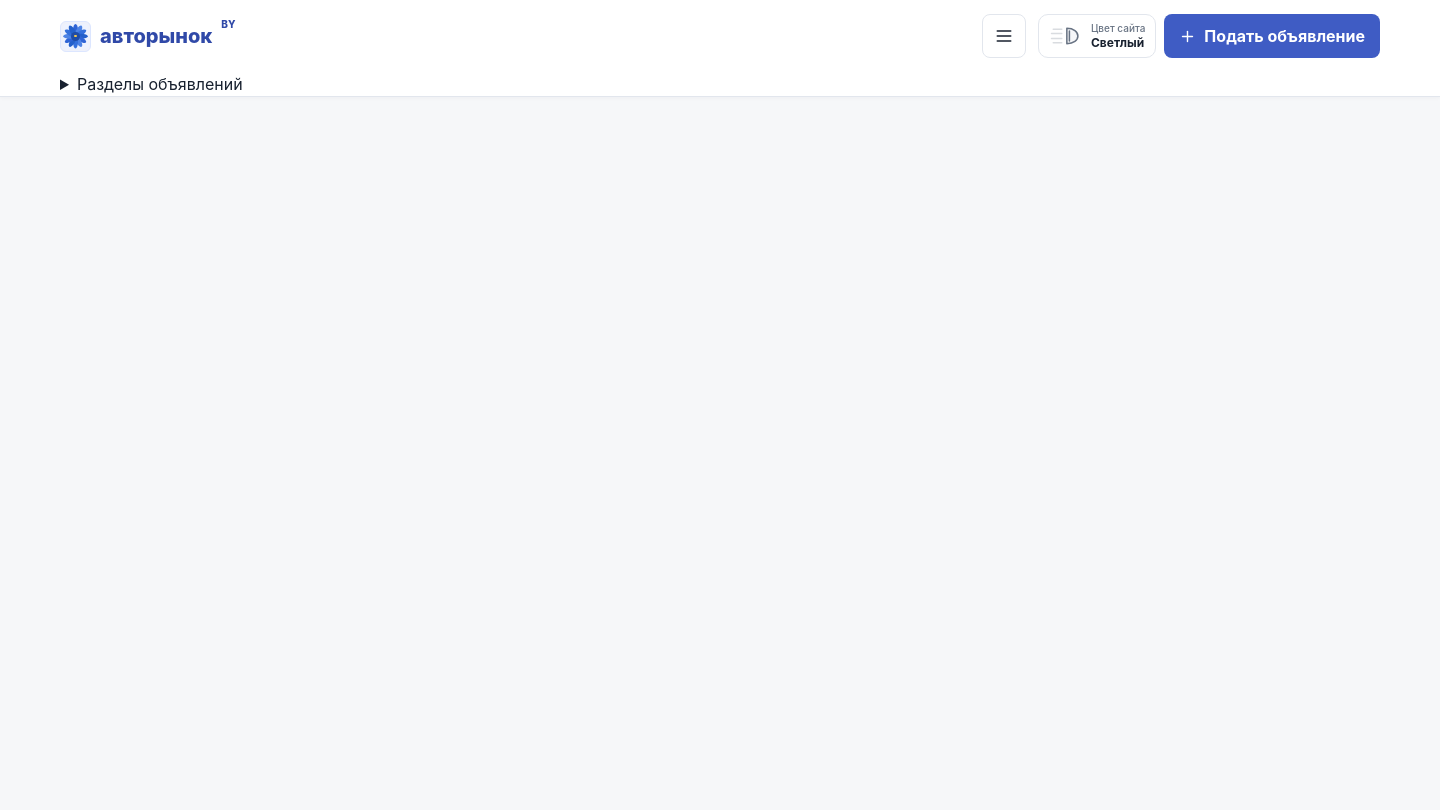
Scenario: moderation navigation › keeps admin routes available from its compact navigation
Click the button with class "mobile-menu-toggle" at (1004, 36), box [982, 14, 1026, 58]
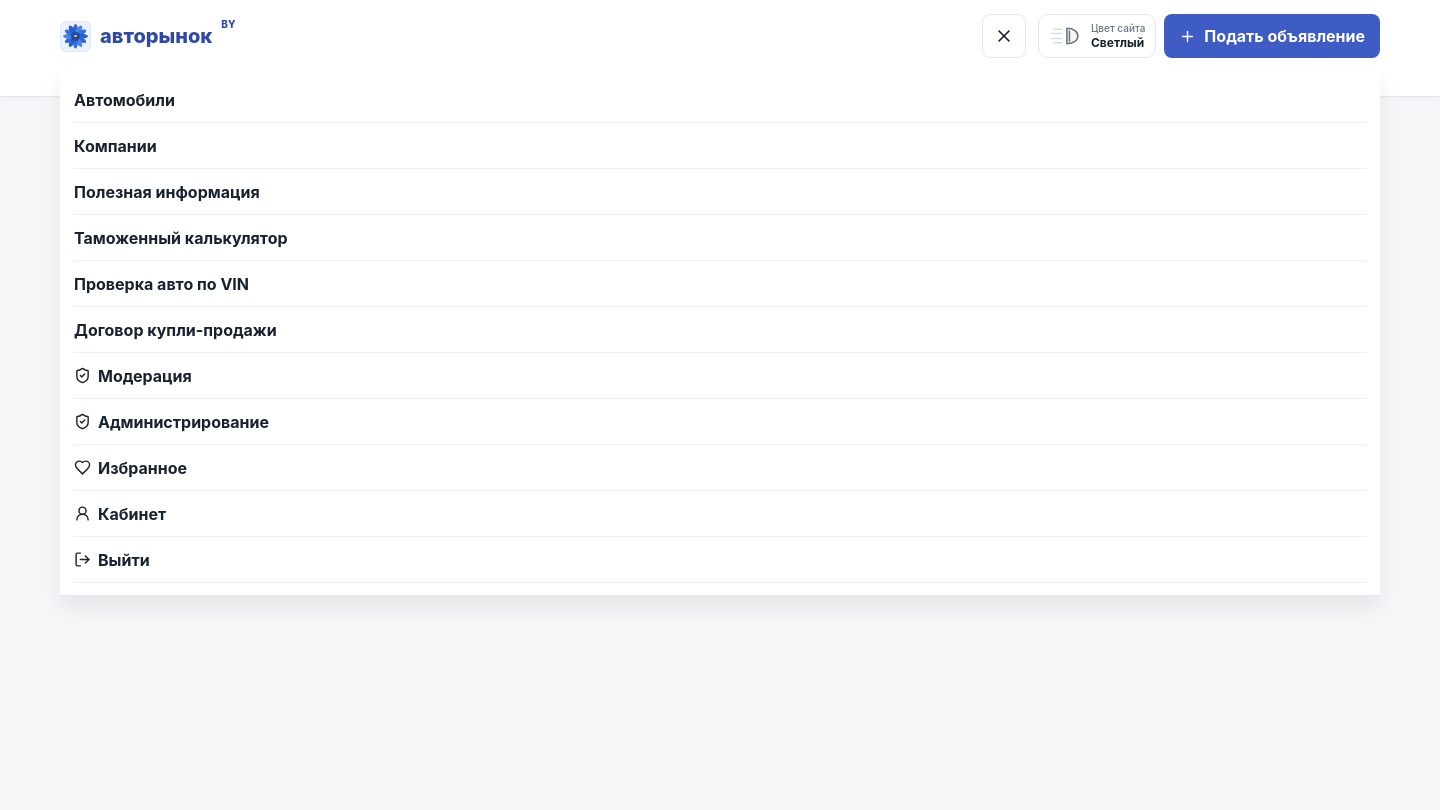
Check: the button with class "mobile-menu-toggle" is expanded, box [982, 14, 1026, 58]
Check: the link to "/moderation" is shown, box [74, 353, 1366, 399]
Check: the link to "/admin" is shown, box [74, 399, 1366, 445]
